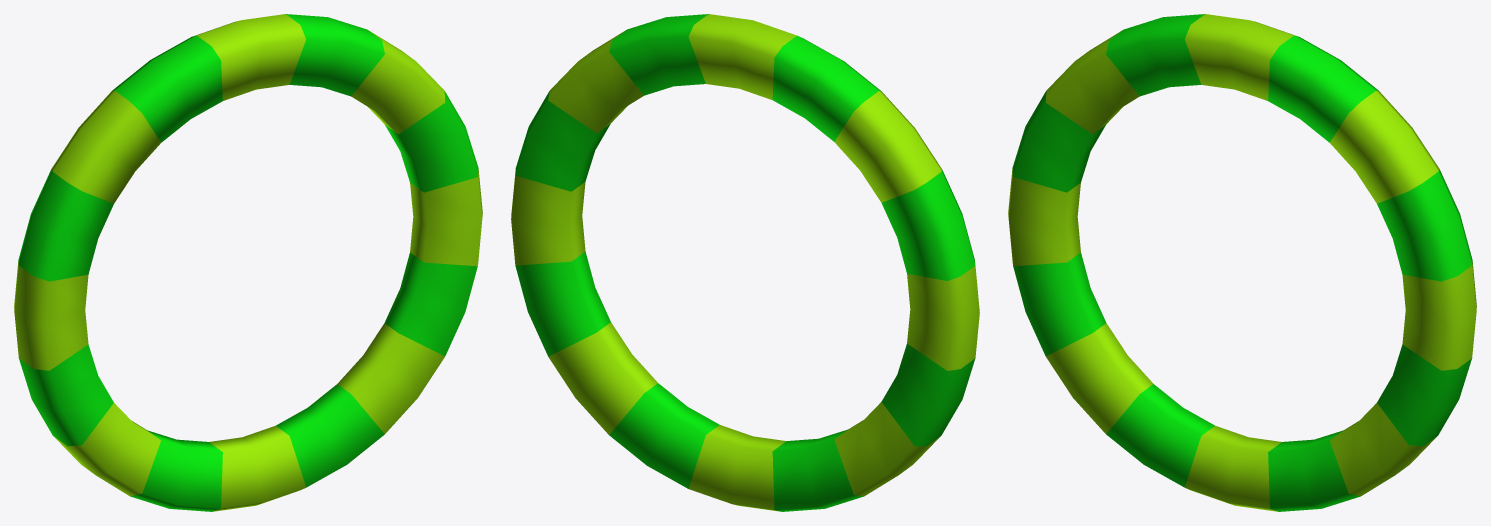
File: ring_green.glb
3 renders of one model, left to right at view 1: azimuth 30°, elevation 25°; view 2: azimuth 150°, elevation 25°; view 3: azimuth 330°, elevation 25°, orthographic.
Visible parts, largest first — view 1: Object_93; view 2: Object_93; view 3: Object_93.
Part boxes in pixels (bbox=[...]): Object_93: bbox=[14, 14, 482, 511]; Object_93: bbox=[511, 14, 979, 511]; Object_93: bbox=[1008, 14, 1476, 511].
Bounding box in the file's own units: 6.07 × 6.07 × 0.6775.
